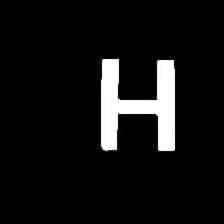LTR_H: (91, 47, 186, 159)
